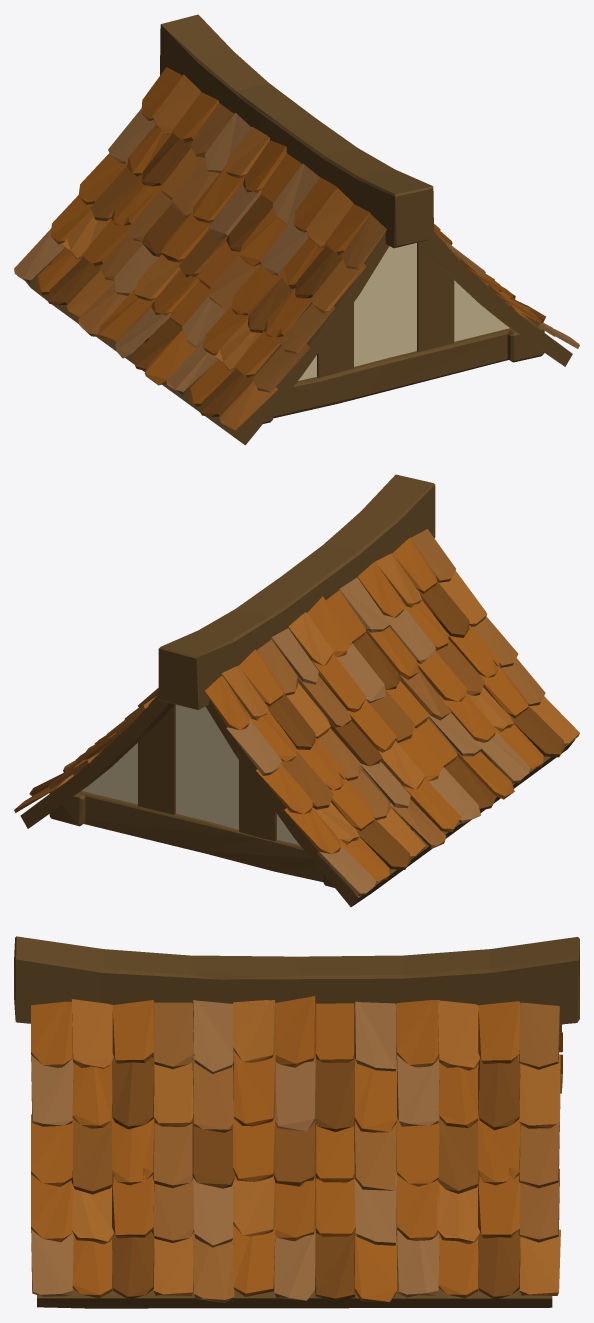
Rendered from Roof_03.fbx.
3 renders of one model, top to bottom at view 1: azimuth 30°, elevation 25°; view 2: azimuth 150°, elevation 25°; view 3: azimuth 270°, elevation 25°, orthographic. The views are drawn at different scales.
Parts seen in each view (by area): view 1: Roof_03; view 2: Roof_03; view 3: Roof_03.
Boxes of the visible parts, x1,y1,x2,y2 form: Roof_03: (14, 14, 579, 445); Roof_03: (14, 474, 579, 906); Roof_03: (14, 936, 579, 1308).
Size of the model in its own units: 3.66 by 2.17 by 4.16.
